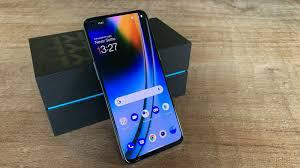Smartphone: (81, 20, 187, 163)
